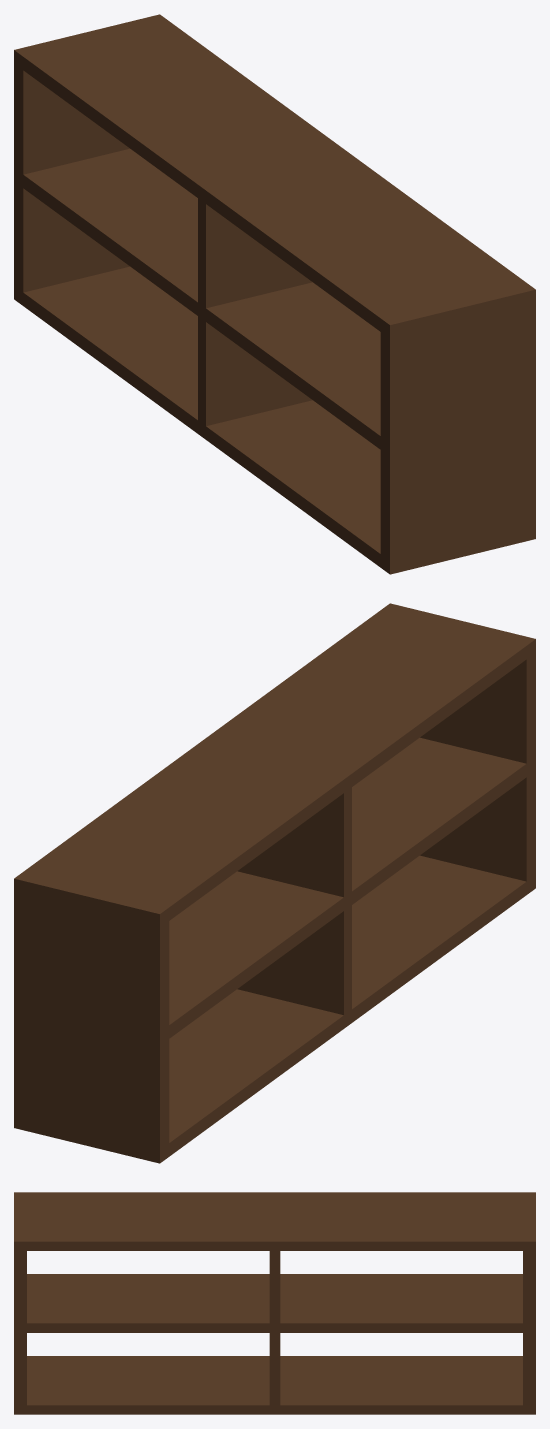
Rendered from bookcase.fbx.
3 renders of one model, top to bottom at view 1: azimuth 30°, elevation 25°; view 2: azimuth 150°, elevation 25°; view 3: azimuth 270°, elevation 25°, orthographic. The views are drawn at different scales.
Parts seen in each view (by area): view 1: bookshelf2:bookshelf; view 2: bookshelf2:bookshelf; view 3: bookshelf2:bookshelf.
Boxes of the visible parts, box(x1,y1,x2,y2) form: bookshelf2:bookshelf: box(14, 14, 535, 574); bookshelf2:bookshelf: box(14, 603, 535, 1163); bookshelf2:bookshelf: box(14, 1192, 535, 1414).
Bounding box in the file's own units: 2.18 × 3.56 × 9.73.
